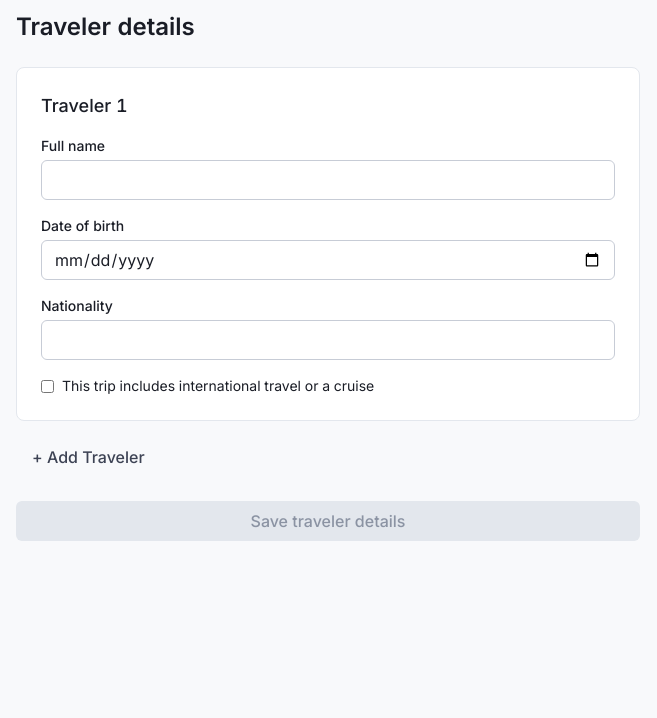
Scenario: TravelerDetailsScreen (SCR-14) › shows passport fields only when the international/cruise toggle is checked
Click the checkbox labelled "This trip includes international travel or a cruise" at (48,386), box [41,380,54,392]
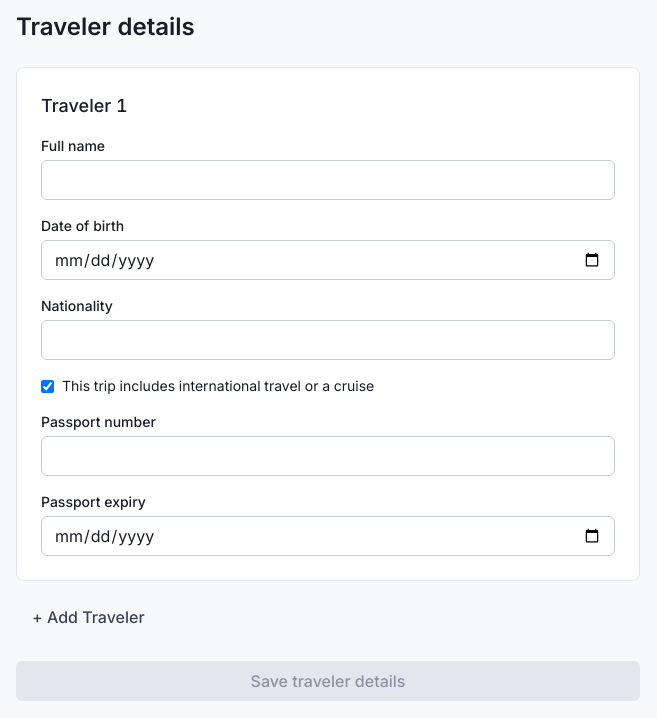
Check: the field labelled "Passport number" is shown, box [41,436,615,476]
Check: the date field labelled "Passport expiry" is shown, box [41,516,615,556]
